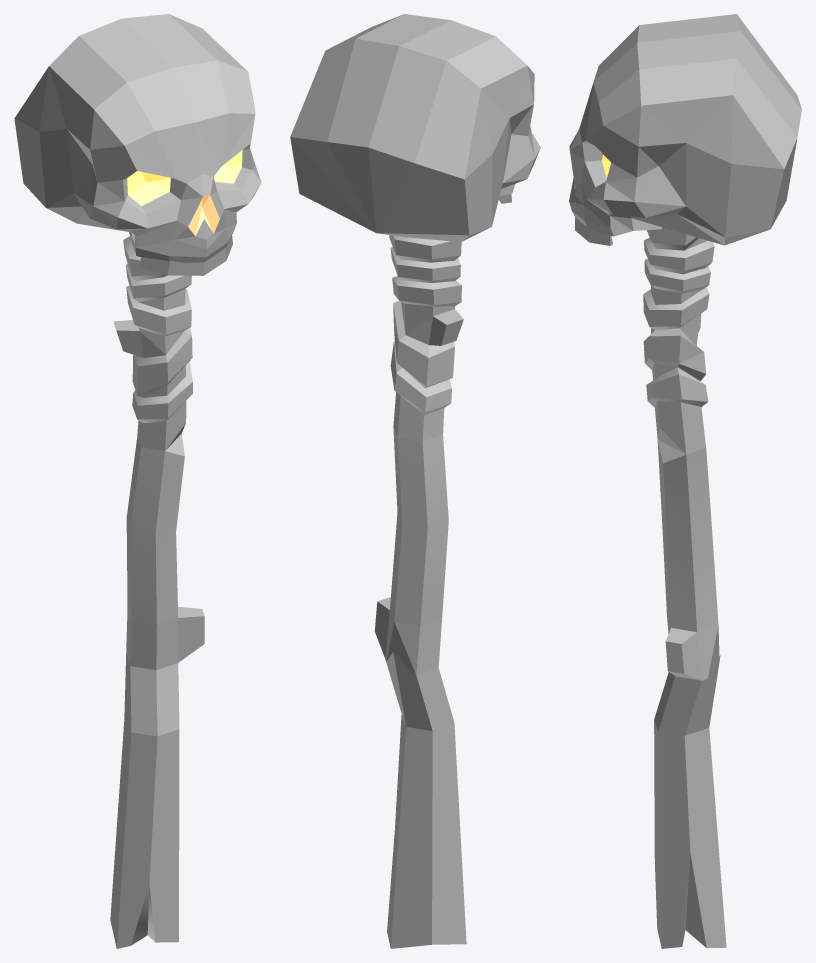
The model's file is SM_Prop_Torch_07.fbx.
3 renders of one model, left to right at view 1: azimuth 30°, elevation 25°; view 2: azimuth 150°, elevation 25°; view 3: azimuth 270°, elevation 25°, orthographic.
Visible parts, largest first — view 1: SM_Prop_Torch_07; view 2: SM_Prop_Torch_07; view 3: SM_Prop_Torch_07.
Boxes of the visible parts, x1,y1,x2,y2 form: SM_Prop_Torch_07: (14,14,261,948); SM_Prop_Torch_07: (290,14,540,948); SM_Prop_Torch_07: (569,14,801,948).
Size of the model in its own units: 25.06 by 123 by 28.67.
